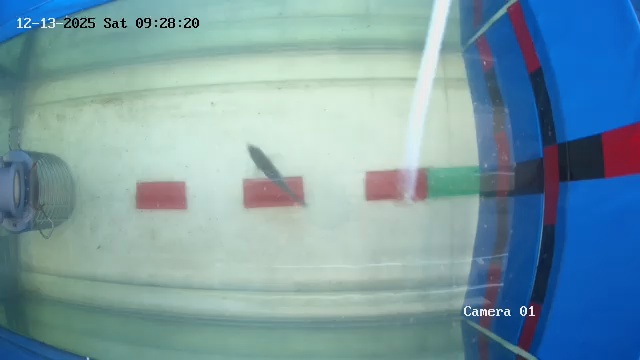fish: (250, 149, 316, 202)
